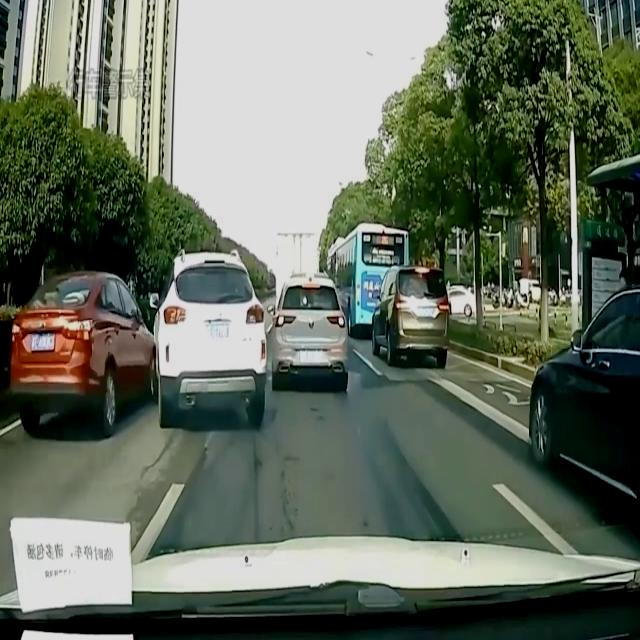accident: (8, 248, 268, 440)
non-accident: (158, 247, 348, 427), (272, 224, 450, 394), (329, 224, 445, 370)
